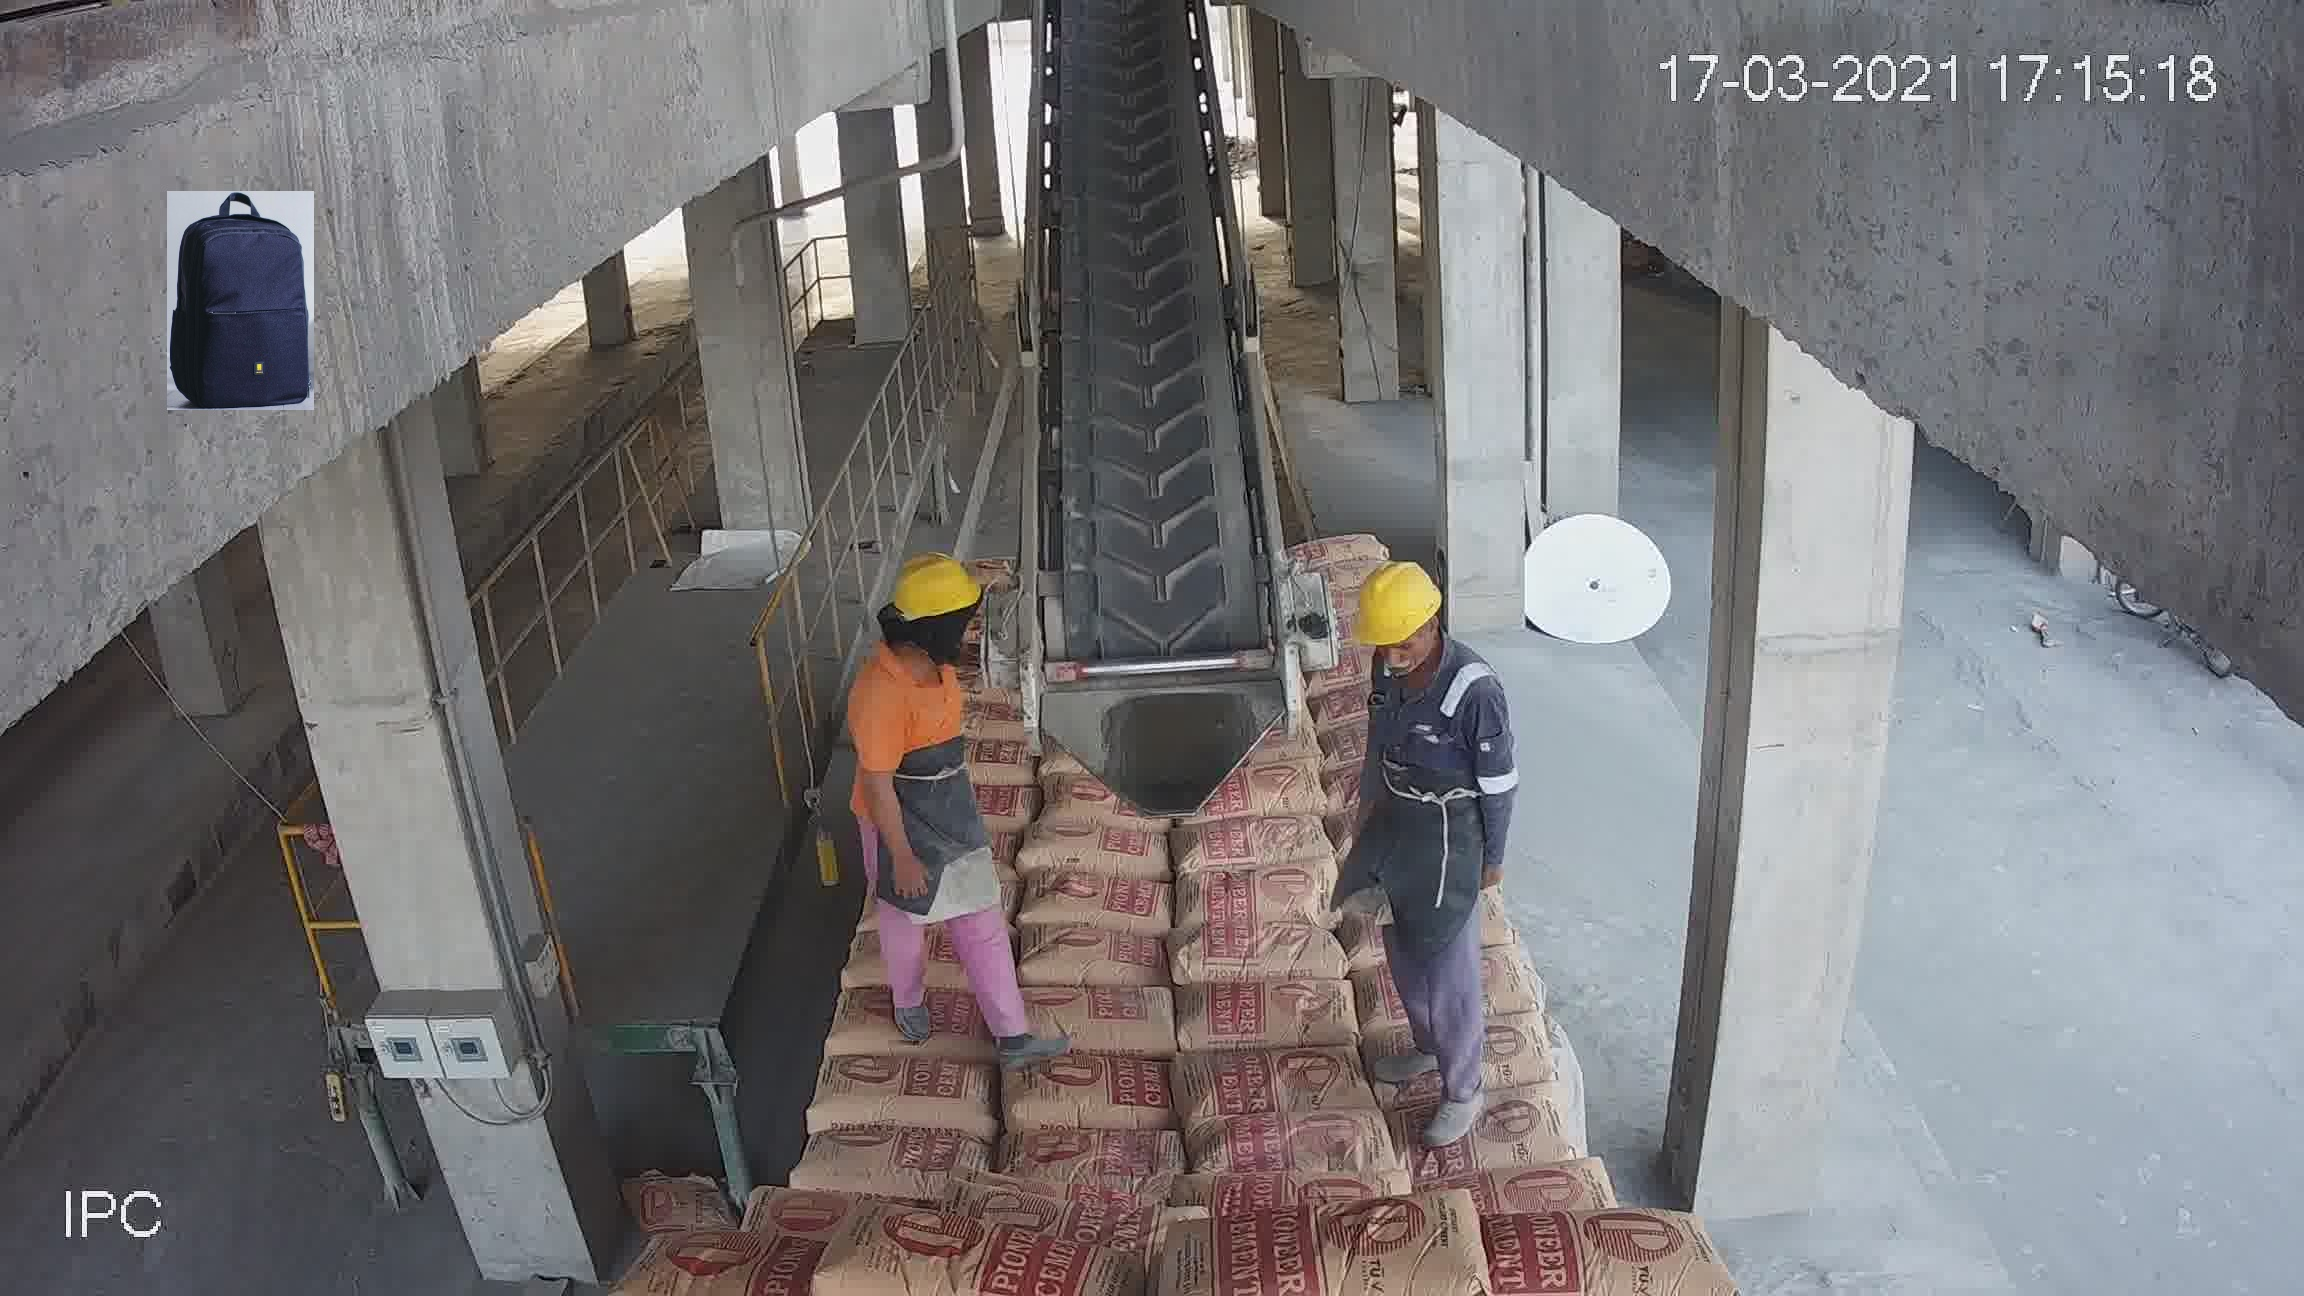bag_h: (1199, 1209, 1497, 1296), (802, 1218, 1119, 1294), (1440, 1211, 1700, 1293), (1396, 1082, 1581, 1177), (801, 1052, 1011, 1135), (1196, 1108, 1399, 1190), (1192, 1046, 1369, 1131), (1173, 975, 1366, 1051), (638, 1226, 847, 1296), (821, 984, 1005, 1063), (1022, 986, 1211, 1062), (992, 1120, 1193, 1190), (1016, 1051, 1188, 1127), (786, 1125, 999, 1187), (1177, 926, 1355, 992), (1431, 1161, 1611, 1226), (1176, 862, 1336, 935), (1022, 813, 1173, 885), (1177, 812, 1329, 878), (1014, 934, 1176, 992), (1025, 873, 1184, 930)
belt: (1017, 32, 1269, 718)
